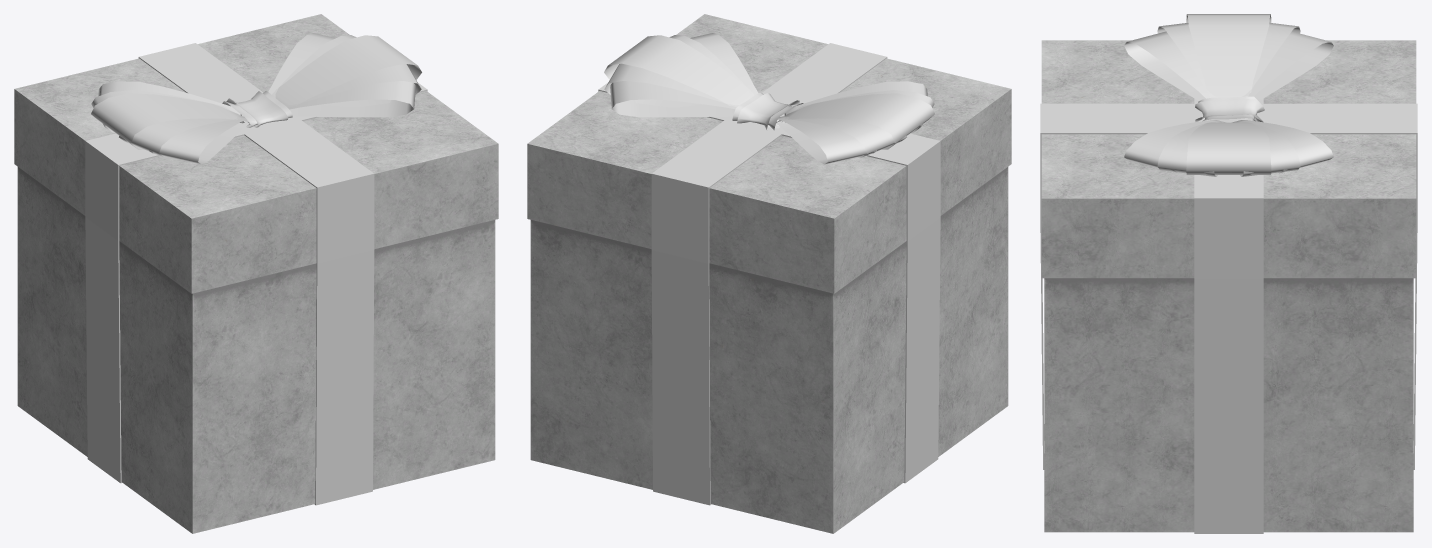
Rendered from gift_box_yellow.fbx.
The picture shows the model from 3 angles, left to right: view 1: azimuth 30°, elevation 25°; view 2: azimuth 150°, elevation 25°; view 3: azimuth 270°, elevation 25°; orthographic projection. The views are drawn at different scales.
Parts seen in each view (by area): view 1: gift_box_yellow; view 2: gift_box_yellow; view 3: gift_box_yellow.
Part boxes in pixels (<box>): gift_box_yellow: <box>14,14,498,533</box>; gift_box_yellow: <box>527,14,1011,533</box>; gift_box_yellow: <box>1040,14,1417,533</box>.
Size of the model in its own units: 30.25 by 33.03 by 30.25.
